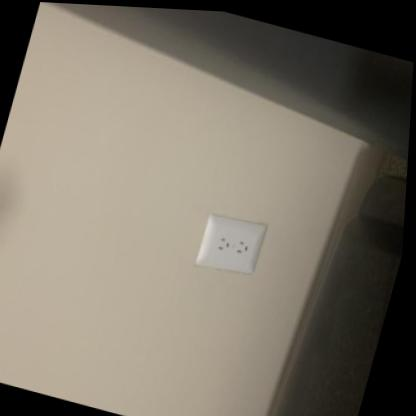OUTLET: (195, 208, 267, 278)
